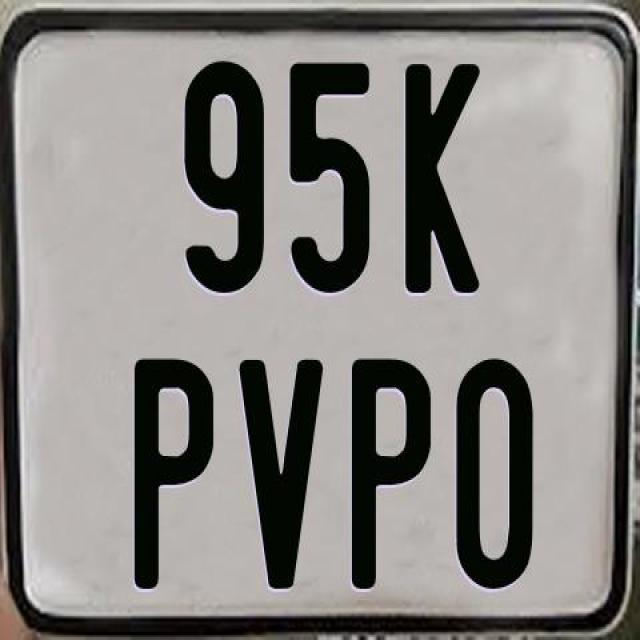0: (454, 354, 532, 594)
5: (290, 59, 378, 293)
9: (180, 58, 266, 292)
K: (405, 62, 483, 298)
P: (133, 355, 214, 595), (352, 355, 430, 587)
V: (237, 357, 324, 596)
